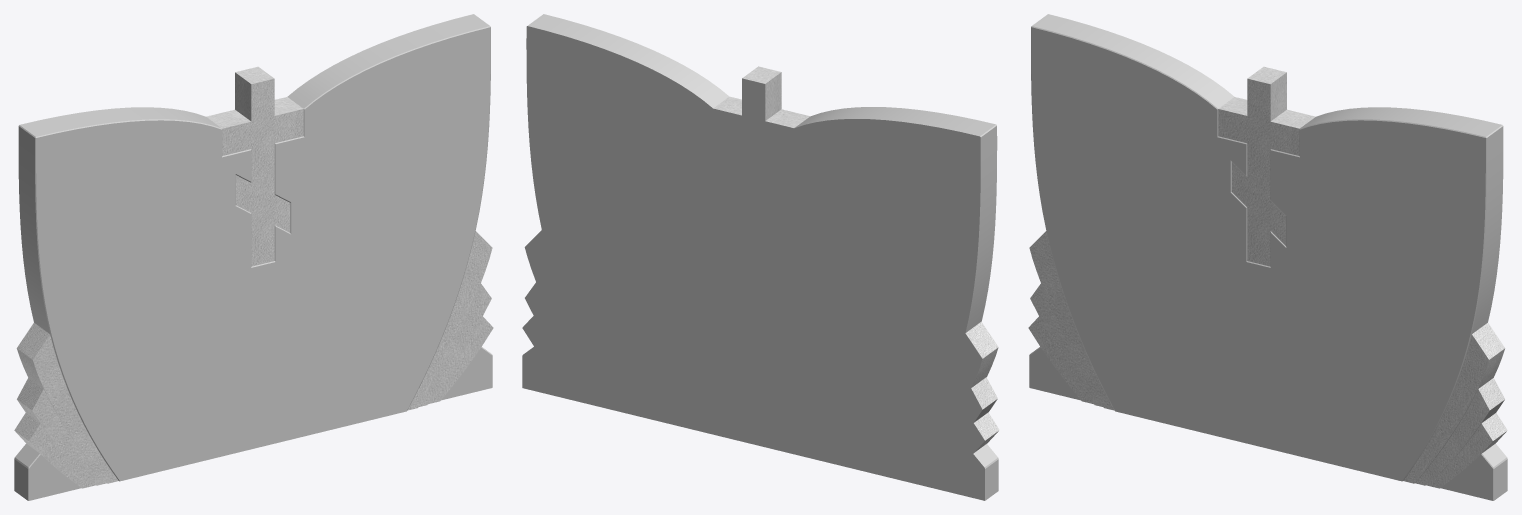
Rendered from cn1d92b7ed67_tkf.glb.
3 renders of one model, left to right at view 1: azimuth 30°, elevation 25°; view 2: azimuth 150°, elevation 25°; view 3: azimuth 330°, elevation 25°, orthographic.
Visible parts, largest first — view 1: Pam-g-151-2, Pam-g-151-2_2_notexture; view 2: Pam-g-151-2, Pam-g-151-2_2_notexture; view 3: Pam-g-151-2, Pam-g-151-2_2_notexture.
Boxes of the visible parts, <box> form: Pam-g-151-2: <box>14,14,492,500</box>; Pam-g-151-2_2_notexture: <box>14,66,493,488</box>; Pam-g-151-2: <box>522,14,998,500</box>; Pam-g-151-2_2_notexture: <box>713,66,999,453</box>; Pam-g-151-2: <box>1029,14,1507,500</box>; Pam-g-151-2_2_notexture: <box>1028,66,1507,488</box>.
Size of the model in its own units: 0.8 by 0.6 by 0.05.
1 material, 1 textured.
